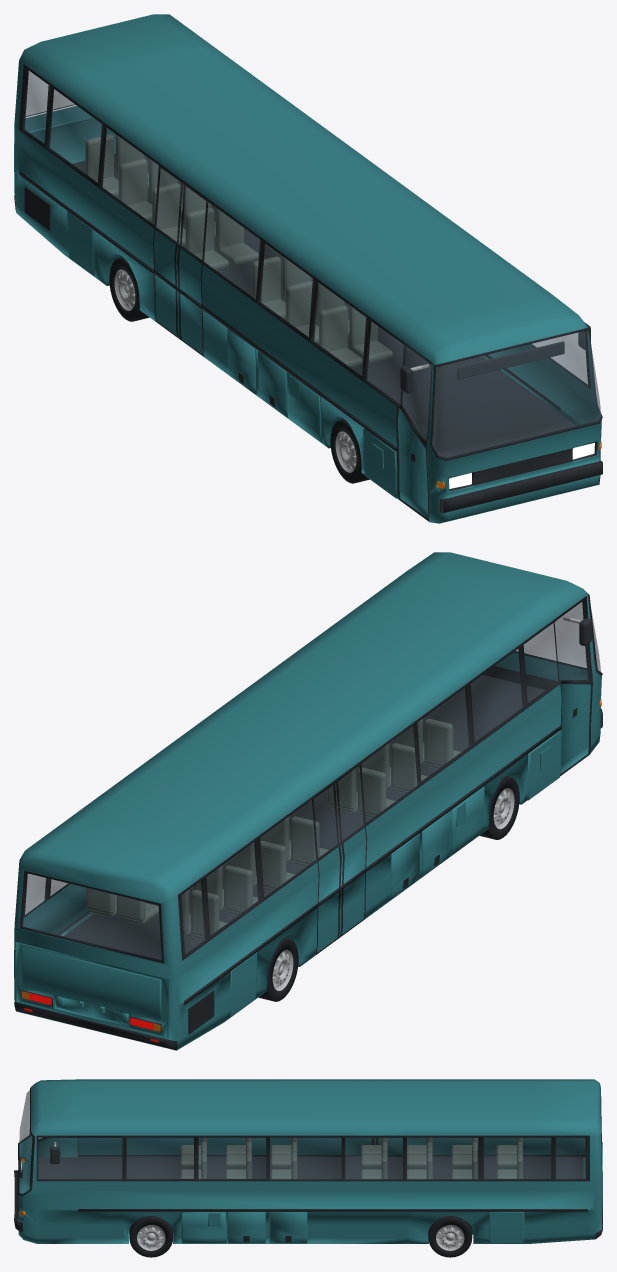
File: road-bus.glb
3 views of the same model, one above another, from view 1: azimuth 30°, elevation 25°; view 2: azimuth 150°, elevation 25°; view 3: azimuth 270°, elevation 25° (orthographic). The views are drawn at different scales.
Visible parts, largest first — view 1: Bus_Body, CabinFloor, Wheel_FL, Wheel_RL, DestinationPanel, SeatBack.020, SeatBack, SeatBack.012, SeatBack.016, SeatBack.004, SeatBack.008, SeatBack.024 (+2 smaller); view 2: Bus_Body, CabinFloor, Wheel_RL, Wheel_FL, SeatBack, SeatBack.020, SeatBack.008, SeatBack.012, SeatBack.004, SeatBack.016, SeatBack.024, SeatBack.009; view 3: Bus_Body, CabinFloor, Wheel_FR, Wheel_RR, Seat.009, Seat.021, Seat.025, Seat.005, Seat.013, Seat.017.
Part boxes in pixels (x1,y1,x2,y2): Bus_Body: [14, 14, 602, 523]; CabinFloor: [72, 153, 575, 457]; Wheel_FL: [330, 419, 369, 483]; Wheel_RL: [109, 257, 149, 321]; DestinationPanel: [457, 341, 564, 379]; SeatBack.020: [118, 158, 147, 205]; SeatBack: [319, 305, 347, 351]; SeatBack.012: [185, 207, 214, 254]; SeatBack.016: [152, 183, 180, 229]; SeatBack.004: [285, 280, 312, 327]; SeatBack.008: [252, 256, 280, 302]; SeatBack.024: [85, 134, 113, 180]; Bus_Body: [14, 552, 602, 1050]; CabinFloor: [64, 675, 545, 959]; Wheel_RL: [258, 937, 298, 1001]; Wheel_FL: [479, 776, 519, 839]; SeatBack: [424, 718, 453, 766]; SeatBack.020: [224, 865, 252, 913]; SeatBack.008: [357, 767, 386, 815]; SeatBack.012: [291, 816, 319, 864]; SeatBack.004: [391, 743, 419, 791]; SeatBack.016: [260, 841, 286, 889]; SeatBack.024: [190, 889, 219, 936]; SeatBack.009: [327, 768, 356, 810]; Bus_Body: [14, 1079, 602, 1243]; CabinFloor: [38, 1157, 583, 1179]; Wheel_FR: [129, 1216, 173, 1257]; Wheel_RR: [428, 1216, 472, 1257]; Seat.009: [270, 1154, 291, 1167]; Seat.021: [451, 1154, 471, 1167]; Seat.025: [496, 1154, 516, 1167]; Seat.005: [225, 1154, 245, 1167]; Seat.013: [361, 1154, 381, 1167]; Seat.017: [407, 1154, 426, 1167].
Bounding box in the file's own units: 2.95 × 2.95 × 12.
